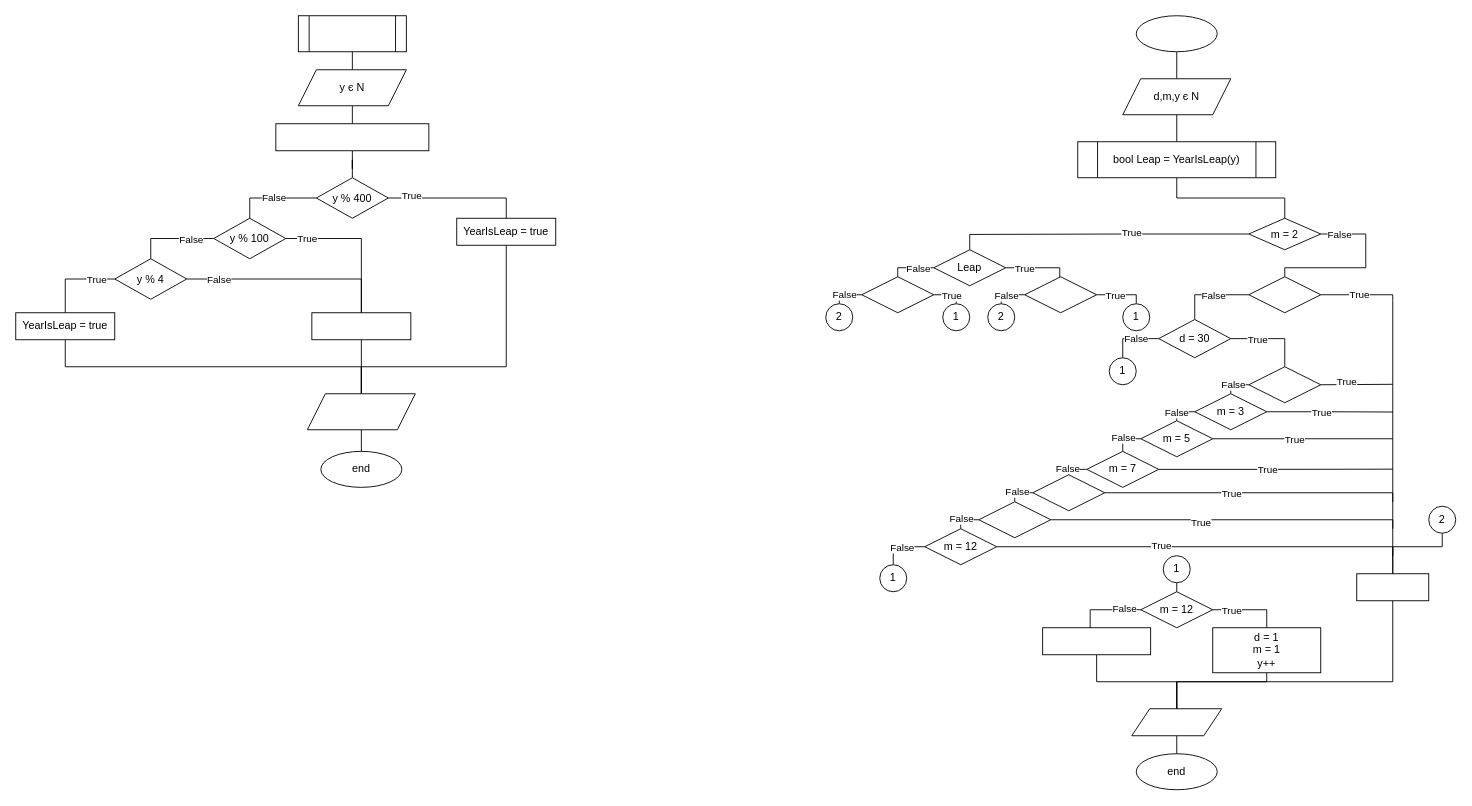
Image size: 1472x806. Some labels were removed from this diagram. The centre of each missing label's shape, as x and y in pixels:
bool YearIsLeap: (x=352, y=137)
d < 30: (x=1284, y=294)
d = 1 m++: (x=1096, y=641)
d = 28: (x=897, y=294)
d = 29: (x=1060, y=294)
d++: (x=1392, y=587)
d, m, y: (x=1176, y=722)
m = 1: (x=1284, y=384)
m = 10: (x=1014, y=519)
m = 8: (x=1068, y=492)
start: (x=1176, y=33)
YearIsLeap: (x=360, y=411)
YearIsLeap = false: (x=361, y=326)
YearIsLeap(): (x=351, y=33)
